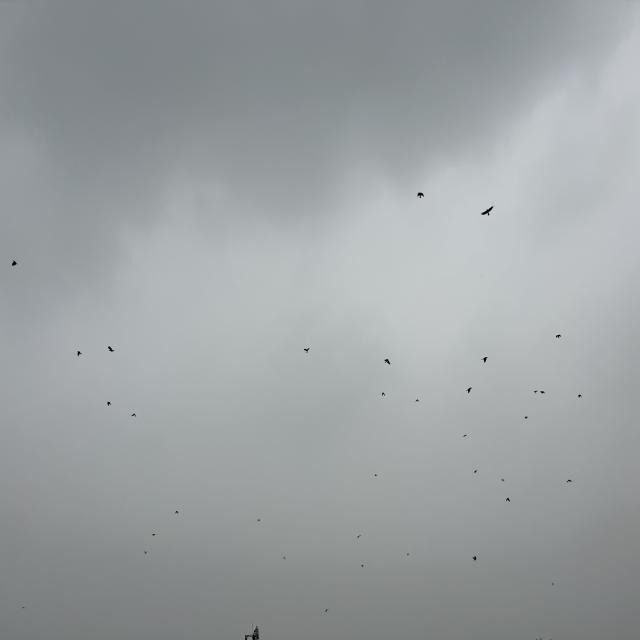bird: (480, 200, 500, 219), (412, 188, 428, 208)
